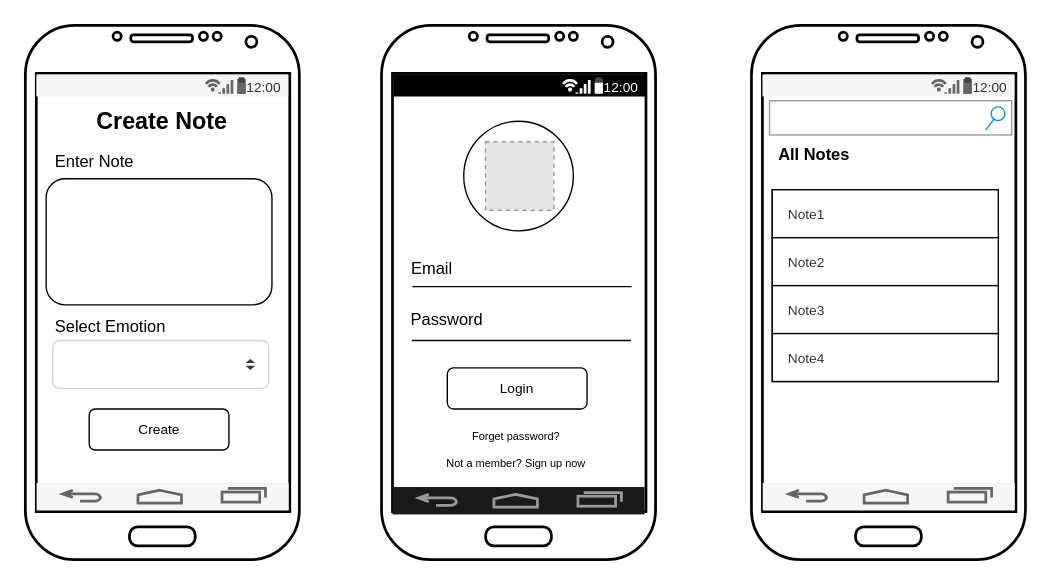
Image size: 1049x584. Some labels were removed from this diagram. Grey dashed boxes stand in for pictures. Each missing label, with the centre of its shape:
Open this select menu: (x=160, y=363)
Search....: (x=890, y=117)
